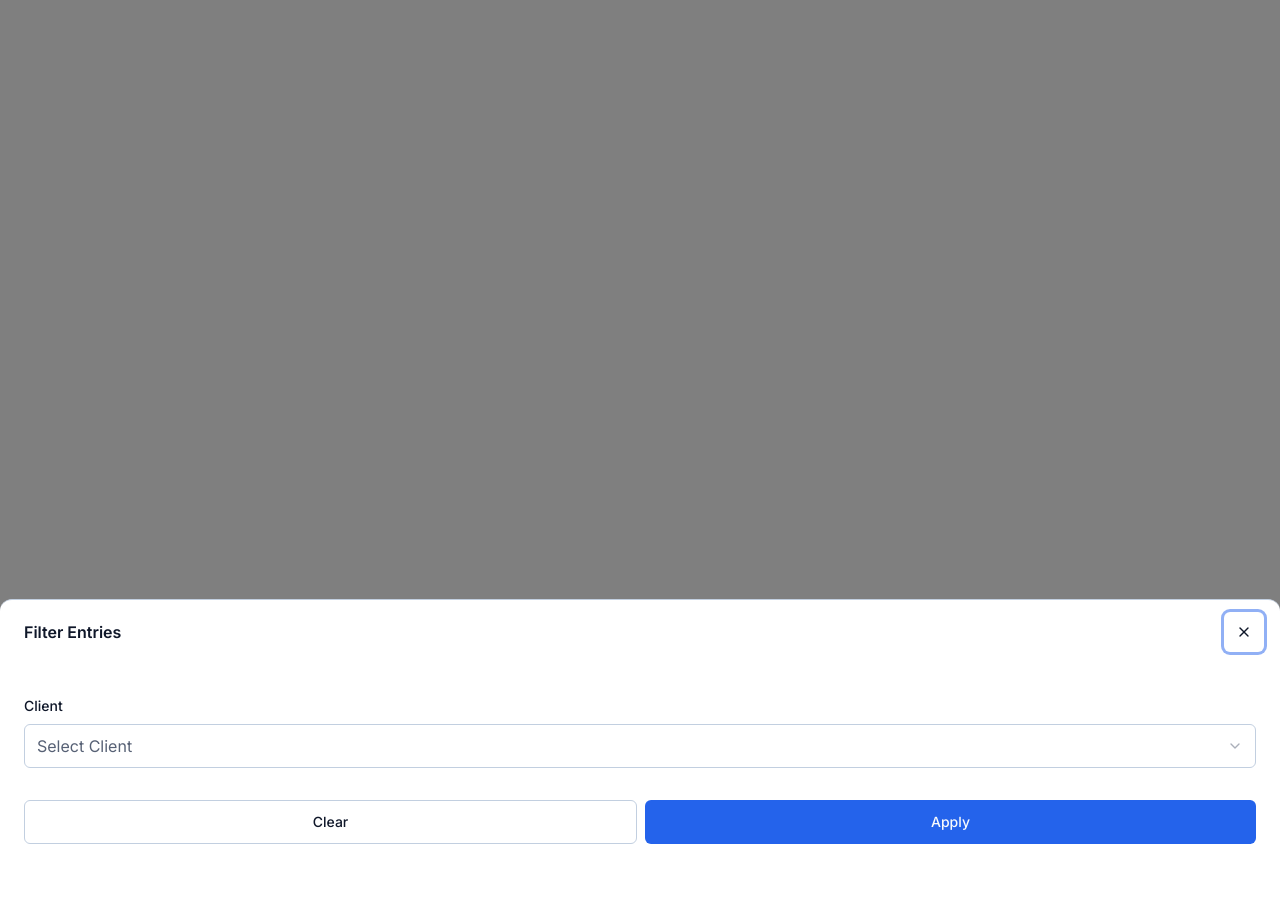
it: FilterSheet › shows all clients in dropdown
Note: Open dropdown
Click the dropdown.
click(85, 746)  # box [24,724,1256,768]
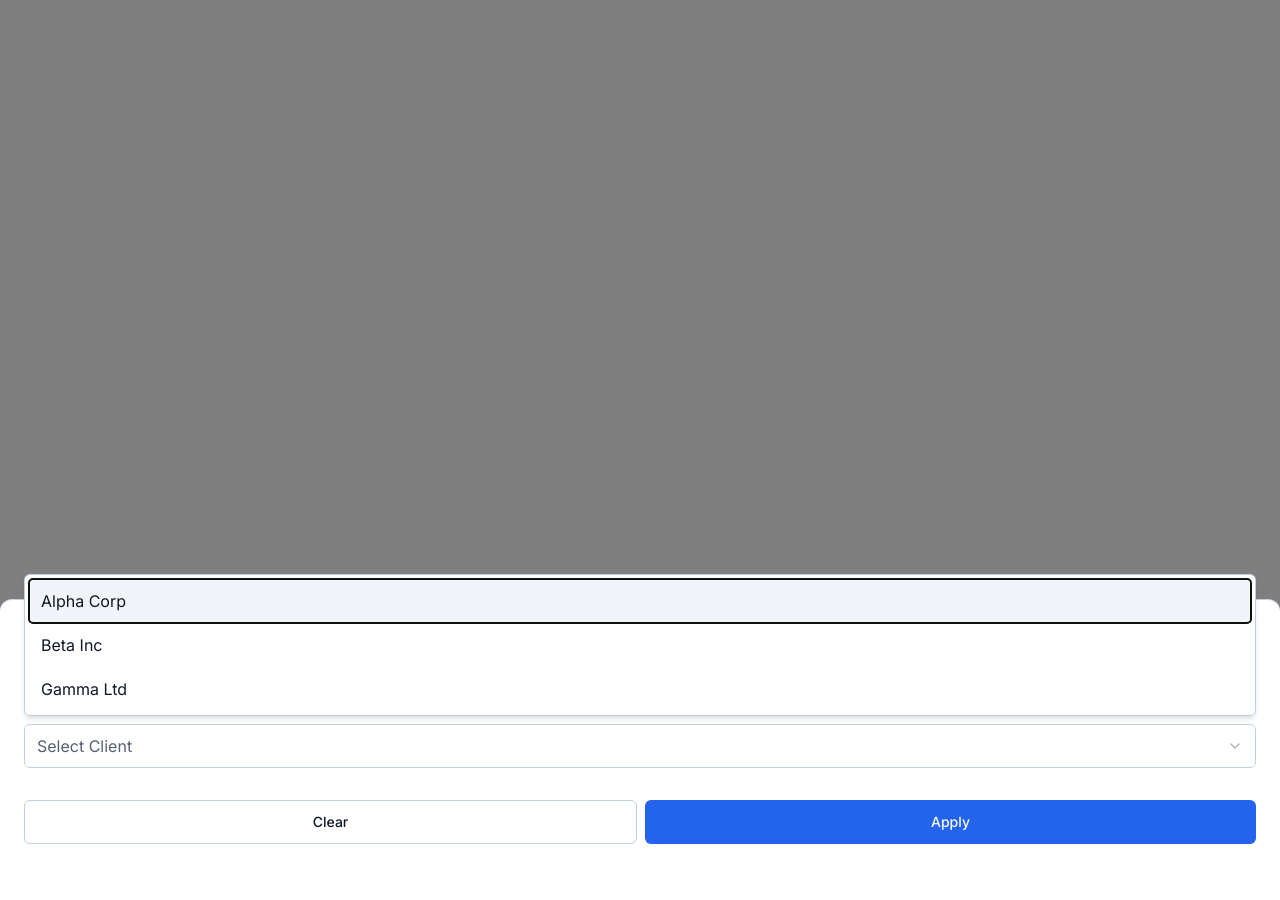
Expected: the option "Alpha Corp" is shown, [29,579,1251,623]
Expected: the option "Beta Inc" is shown, [41,635,102,655]
Expected: the option "Gamma Ltd" is shown, [41,679,127,699]
